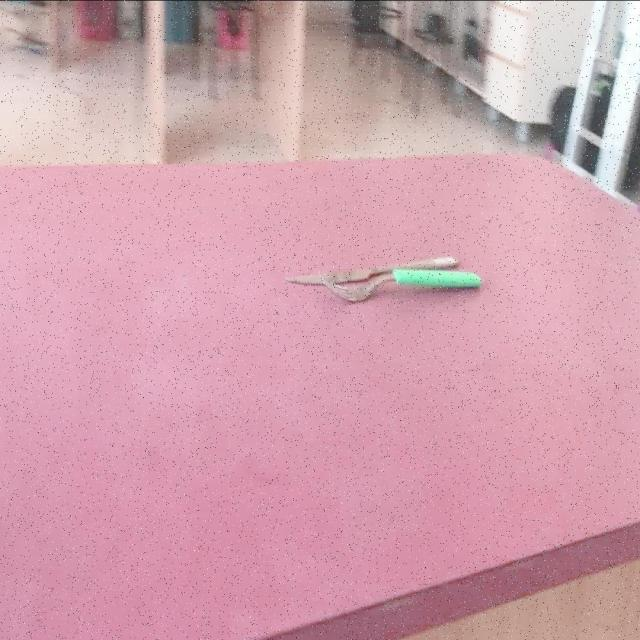Fork: (284, 257, 480, 304)
Knife: (283, 257, 481, 304)
